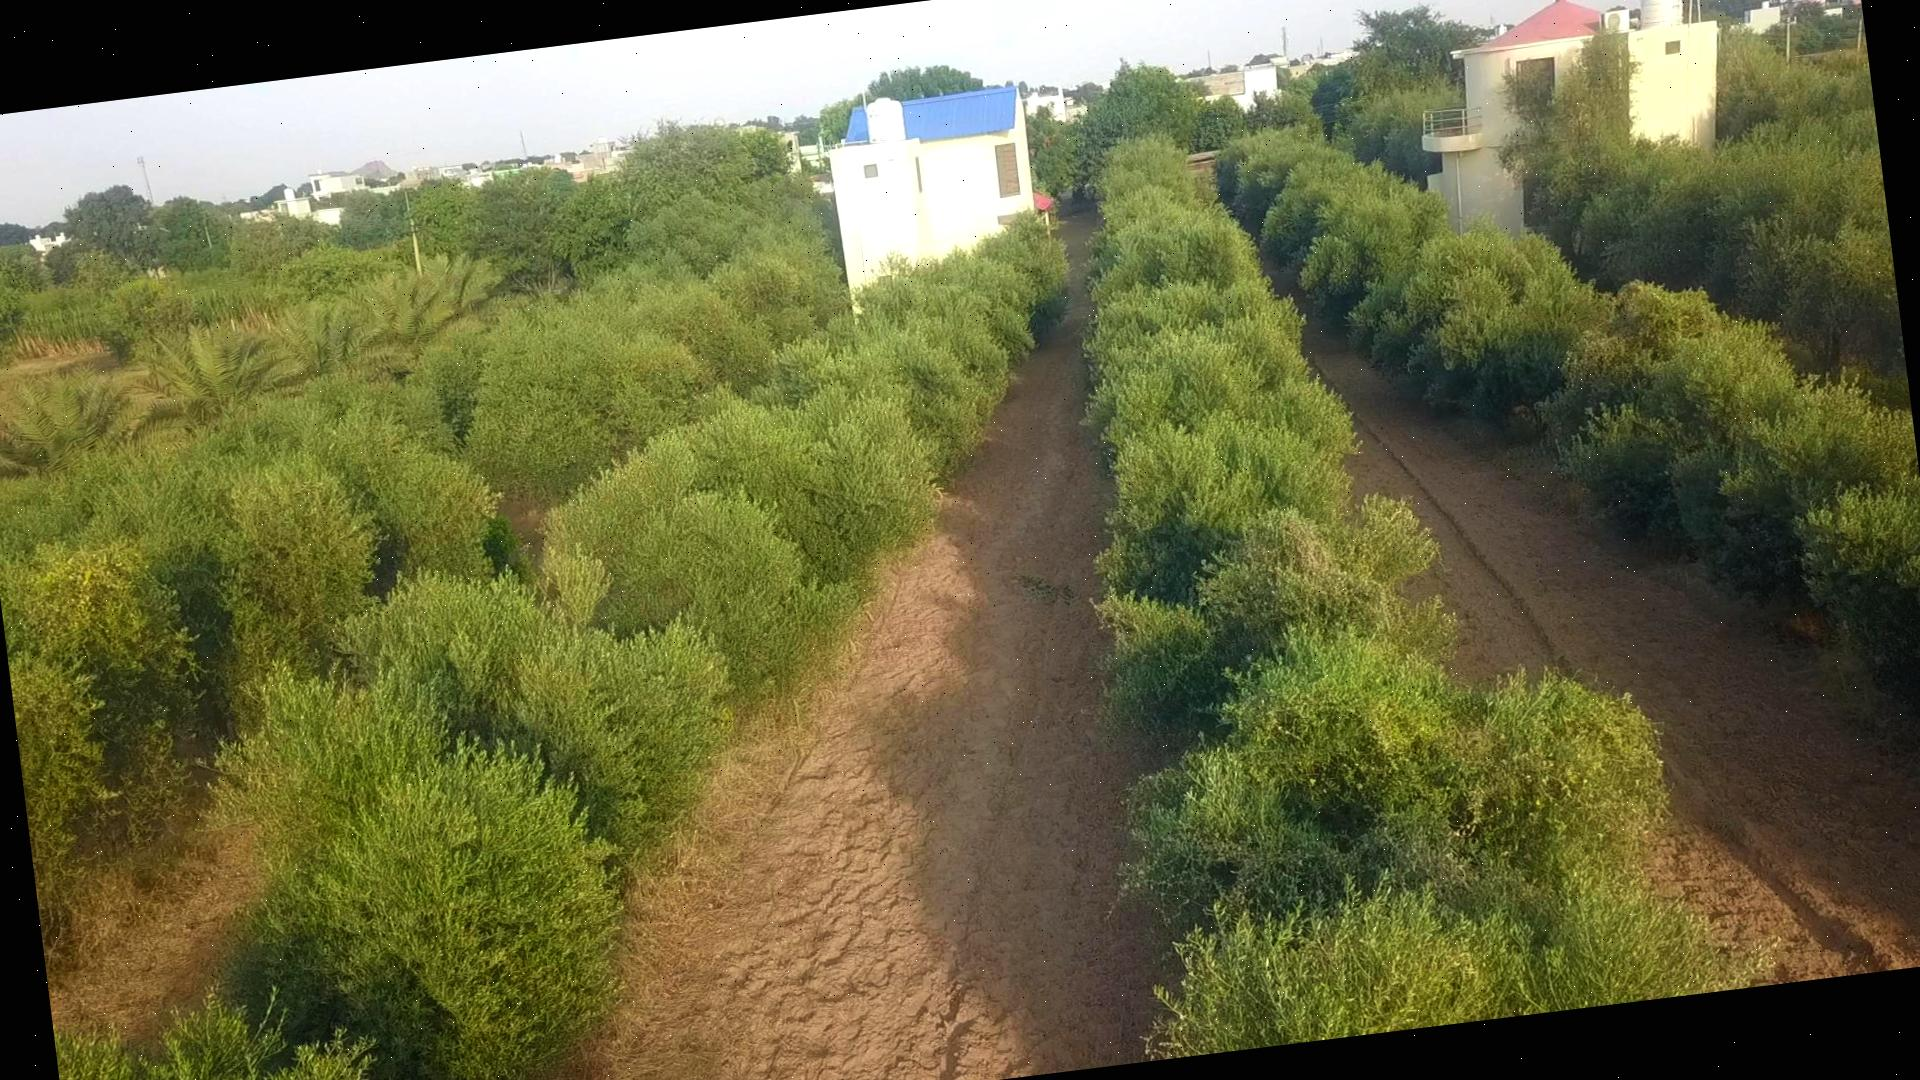canopy: (53, 214, 1067, 1080), (1083, 136, 1729, 1056), (0, 248, 845, 928), (1217, 124, 1920, 686), (1503, 44, 1908, 394)
road: (558, 211, 1176, 1080), (1305, 327, 1920, 977), (49, 827, 258, 1040)
